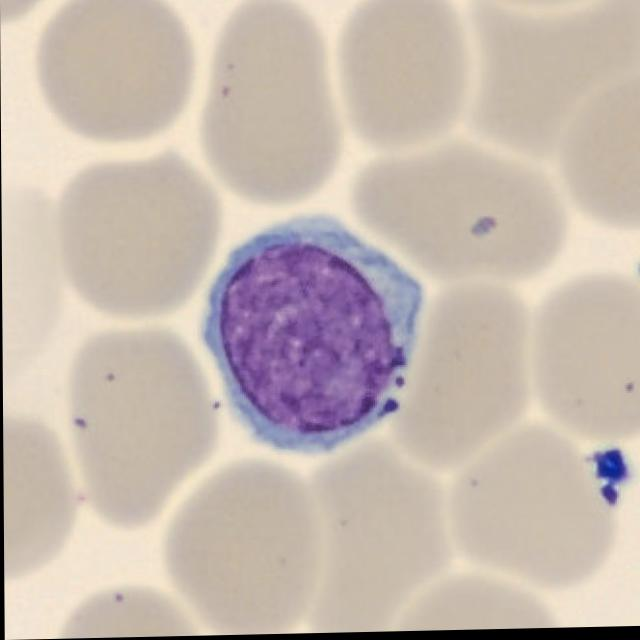Linfocito atipico: (198, 217, 424, 453)
